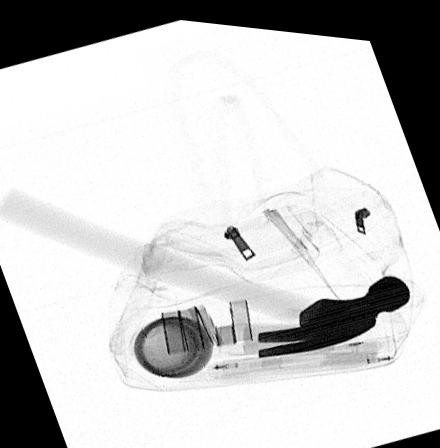Hammer: (0, 187, 412, 352)
